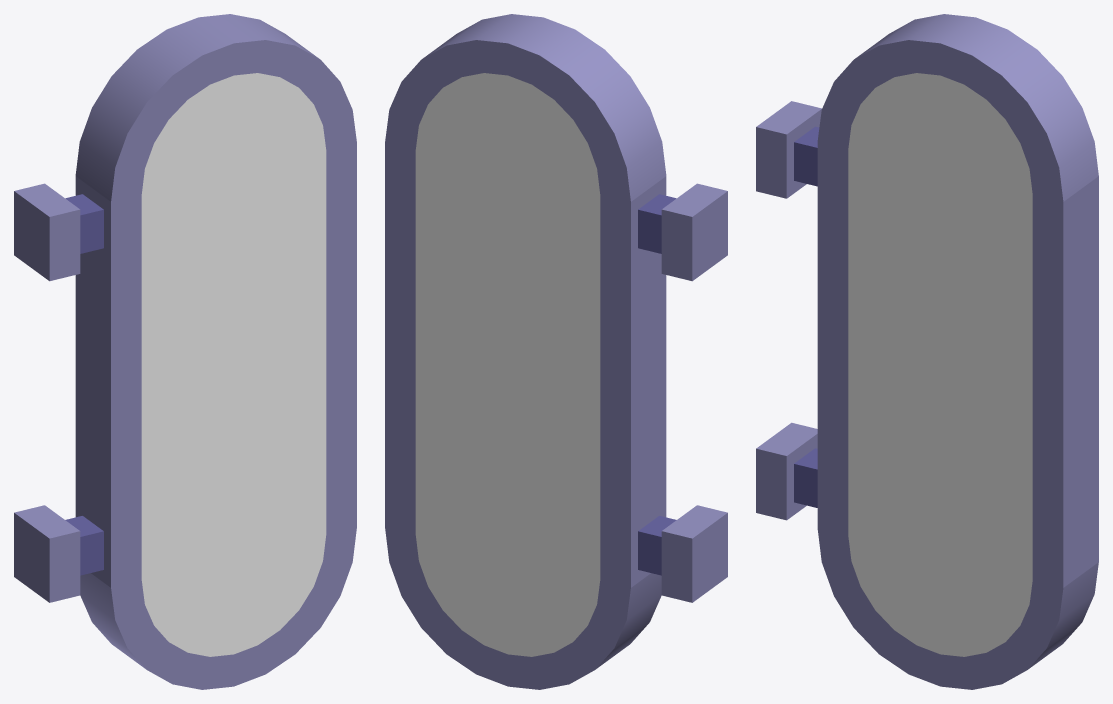
The model's file is Sign_Rounded.fbx.
3 views of the same model, side by side, from view 1: azimuth 30°, elevation 25°; view 2: azimuth 150°, elevation 25°; view 3: azimuth 330°, elevation 25° (orthographic).
Visible parts, largest first — view 1: sign_rounded; view 2: sign_rounded; view 3: sign_rounded.
Boxes of the visible parts, x1=… form: sign_rounded: x1=14, y1=14, x2=356, y2=689; sign_rounded: x1=385, y1=14, x2=727, y2=689; sign_rounded: x1=756, y1=14, x2=1098, y2=689.
Size of the model in its own units: 5 by 10 by 1.
